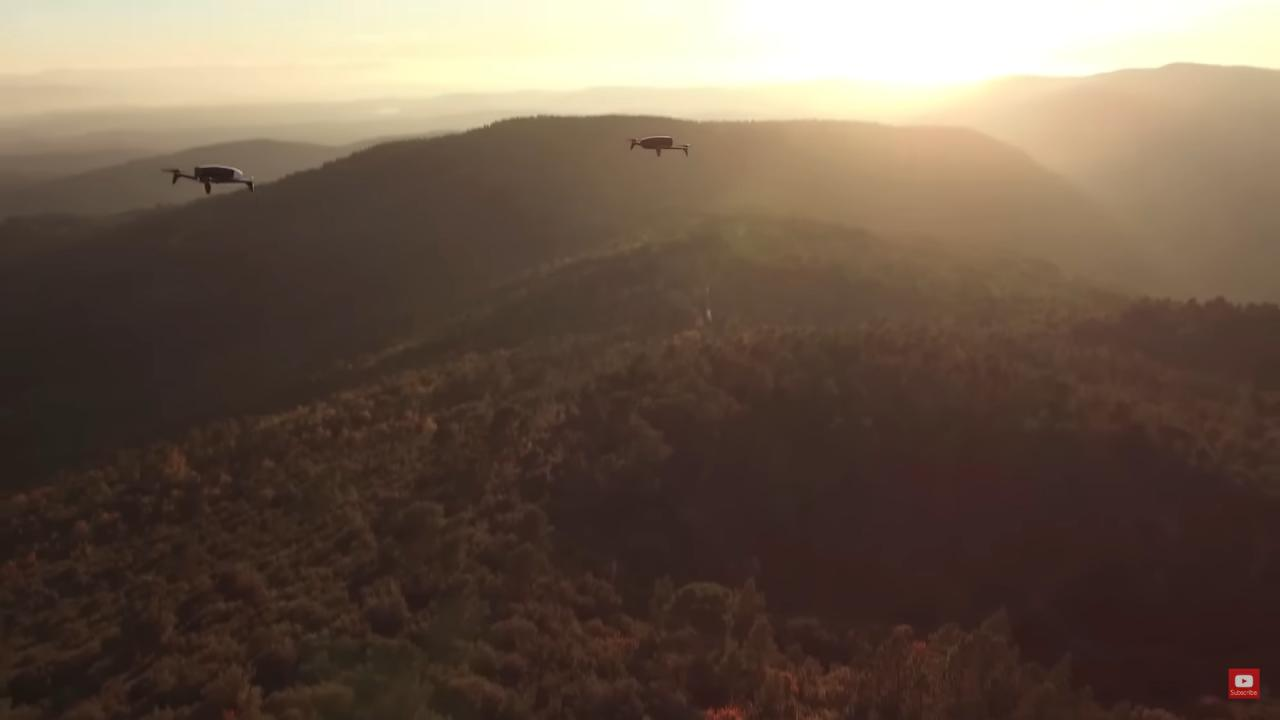Drone: (156, 155, 264, 204), (621, 128, 698, 164)
